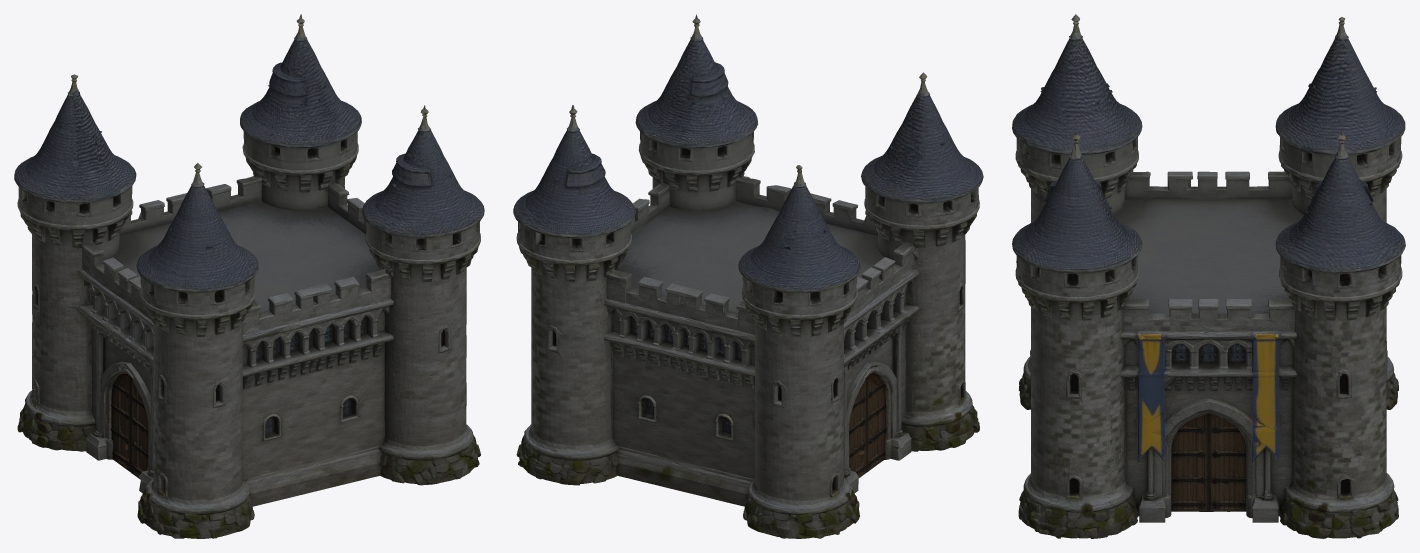
File: castle.obj
3 renders of one model, left to right at view 1: azimuth 30°, elevation 25°; view 2: azimuth 150°, elevation 25°; view 3: azimuth 270°, elevation 25°, orthographic. The views are drawn at different scales.
Visible parts, largest first — view 1: tripo_node_f5cc766f-0ac3-4a5d-be75-15da74452577; view 2: tripo_node_f5cc766f-0ac3-4a5d-be75-15da74452577; view 3: tripo_node_f5cc766f-0ac3-4a5d-be75-15da74452577.
Part boxes in pixels (x1,y1,x2,y2): tripo_node_f5cc766f-0ac3-4a5d-be75-15da74452577: [14, 14, 484, 538]; tripo_node_f5cc766f-0ac3-4a5d-be75-15da74452577: [513, 14, 983, 538]; tripo_node_f5cc766f-0ac3-4a5d-be75-15da74452577: [1012, 14, 1405, 538].
Bounding box in the file's own units: 0.9716 × 1 × 0.9297.
1 material, 1 textured.
